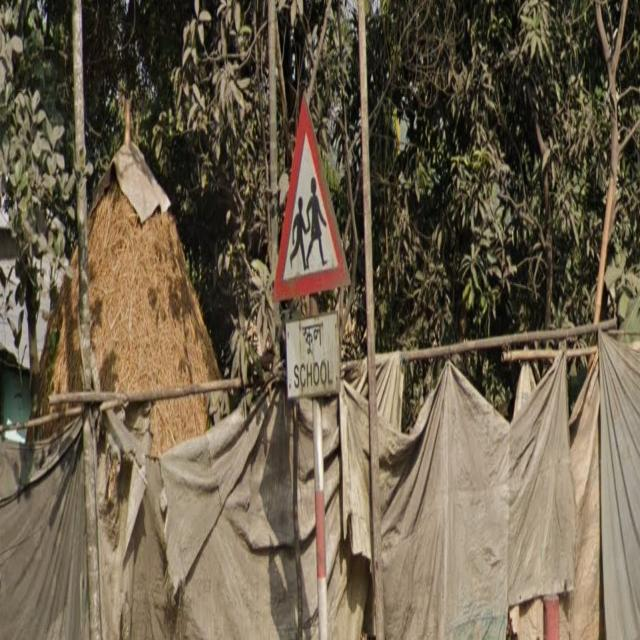School-in-front: (271, 92, 352, 412)
